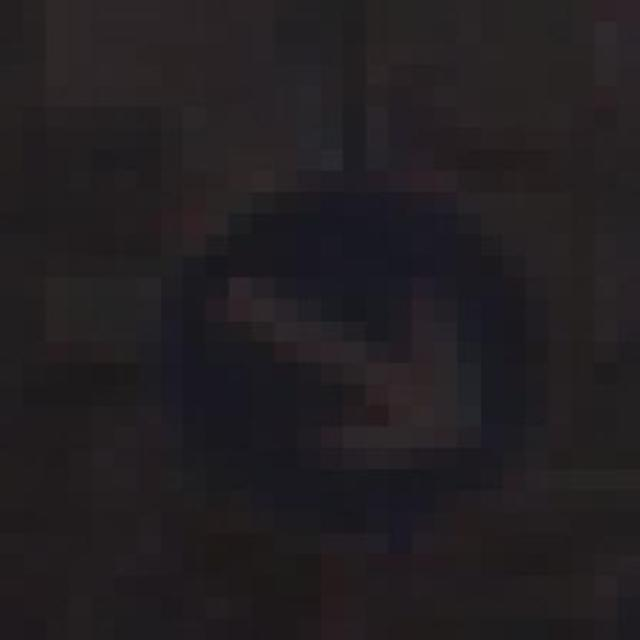Keep-Right: (137, 149, 549, 534)
